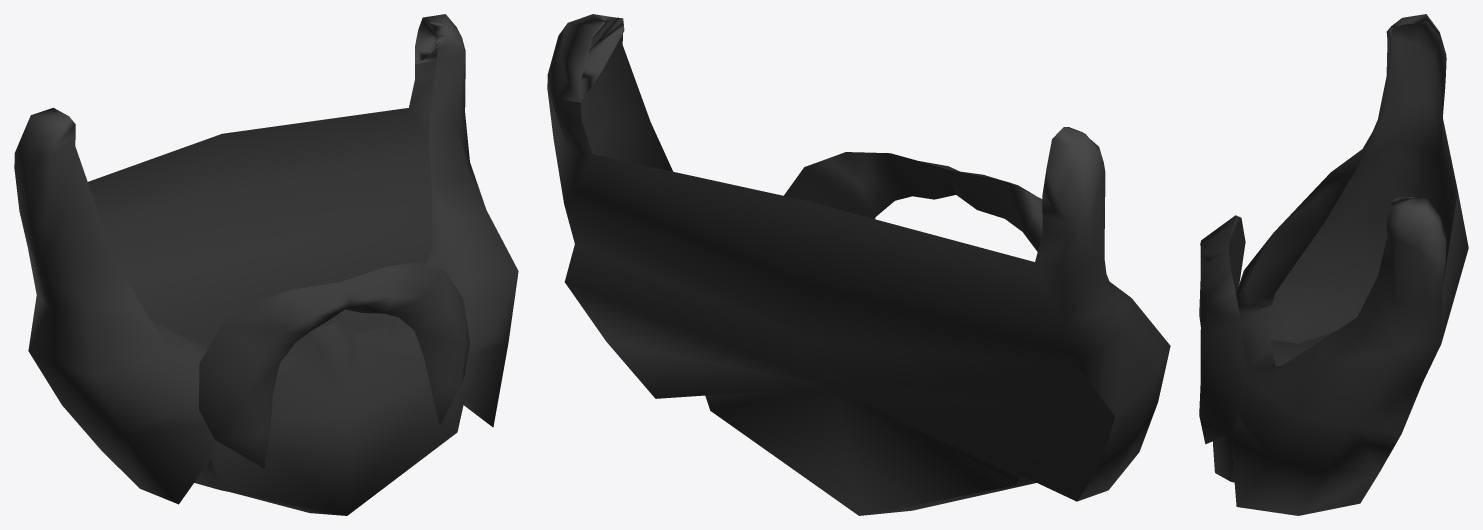
The model's file is Beard_Black_13.fbx.
The picture shows the model from 3 angles, left to right: view 1: azimuth 30°, elevation 25°; view 2: azimuth 150°, elevation 25°; view 3: azimuth 270°, elevation 25°; orthographic projection. The views are drawn at different scales.
Visible parts, largest first — view 1: Beard_Black_13; view 2: Beard_Black_13; view 3: Beard_Black_13.
Part boxes in pixels (bbox=[...]): Beard_Black_13: bbox=[14, 14, 518, 515]; Beard_Black_13: bbox=[547, 14, 1170, 515]; Beard_Black_13: bbox=[1199, 14, 1468, 515].
Size of the model in its own units: 54.32 by 45.47 by 28.75.
